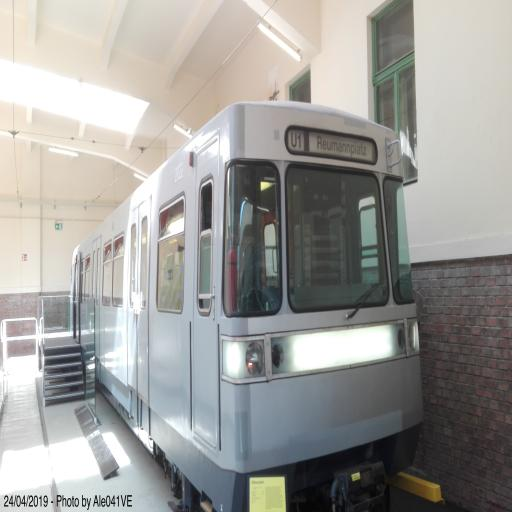Silberpfeil: (70, 94, 426, 512)
